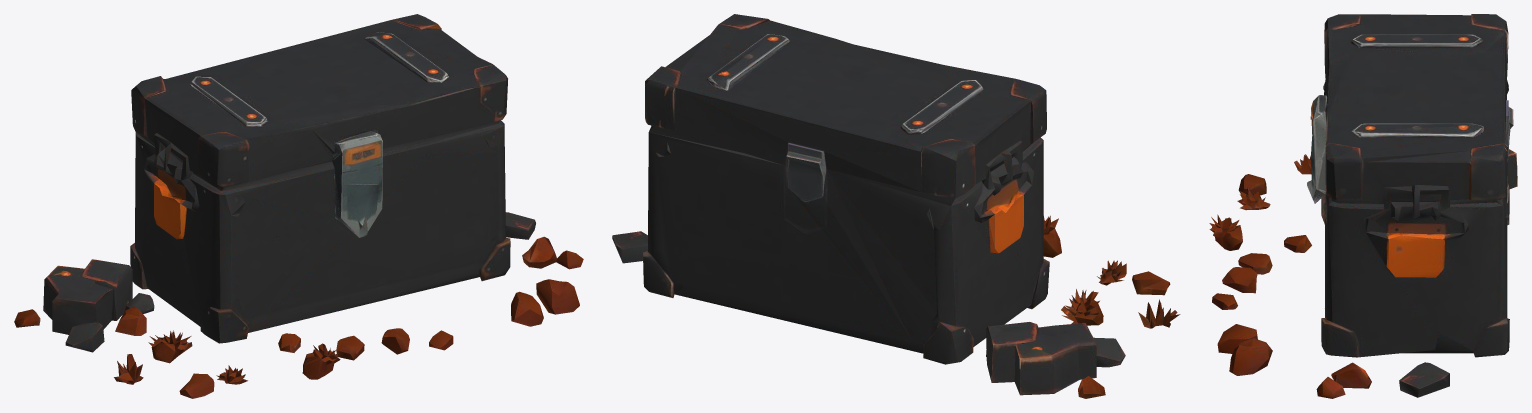
File: BS_Prop_SupplyChest_final.glb
3 views of the same model, side by side, from view 1: azimuth 30°, elevation 25°; view 2: azimuth 150°, elevation 25°; view 3: azimuth 270°, elevation 25° (orthographic). The views are drawn at different scales.
Bounding box in the file's own units: 1.9 × 0.7685 × 1.02.
1 material, 1 textured.
